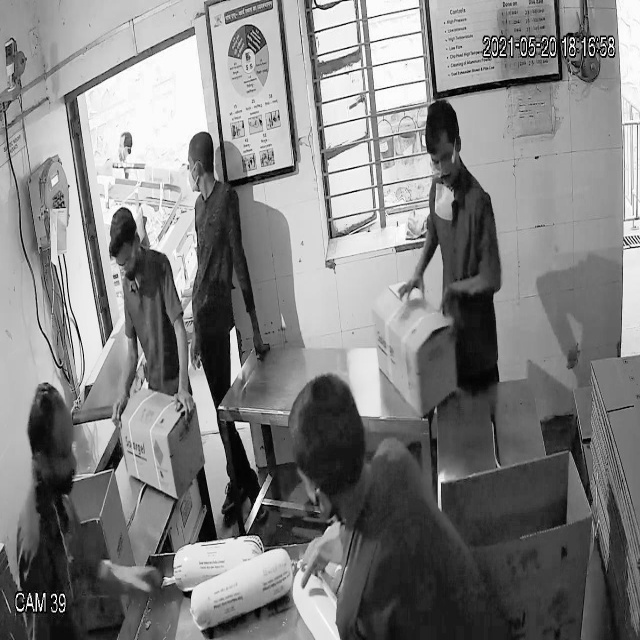Gafas: (420, 148, 467, 181)
